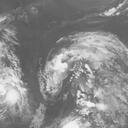cyclone: (37, 31, 119, 104)
